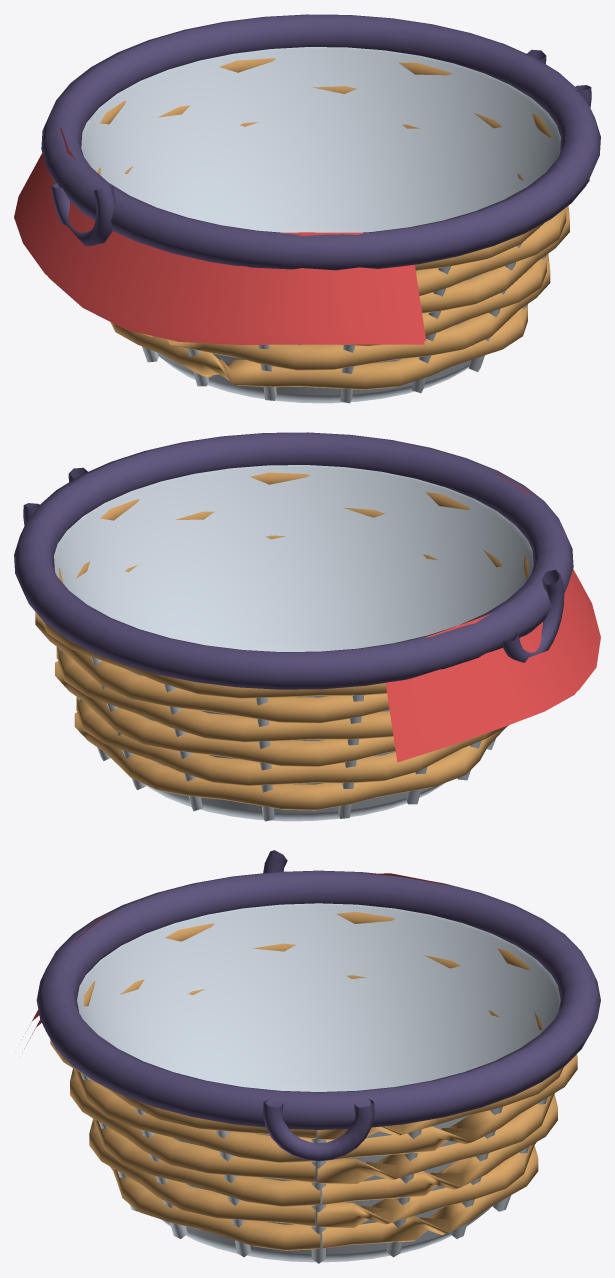
Rendered from HoneyBasket.obj.
3 views of the same model, one above another, from view 1: azimuth 30°, elevation 25°; view 2: azimuth 150°, elevation 25°; view 3: azimuth 270°, elevation 25° (orthographic).
Visible parts, largest first — view 1: Basket, Rim, Cloth, Weave; view 2: Basket, Rim, Weave, Cloth; view 3: Basket, Weave, Rim.
Boxes of the visible parts, left/top/right/bottom form: Basket: left=81, top=47, right=560, bottom=403; Rim: left=41, top=14, right=600, bottom=270; Cloth: left=14, top=127, right=426, bottom=344; Weave: left=97, top=58, right=589, bottom=389; Basket: left=54, top=465, right=533, bottom=821; Rim: left=14, top=432, right=573, bottom=689; Weave: left=35, top=472, right=528, bottom=810; Cloth: left=385, top=472, right=600, bottom=762; Basket: left=77, top=903, right=560, bottom=1263; Weave: left=50, top=912, right=577, bottom=1250; Rim: left=36, top=850, right=600, bottom=1161.
Size of the model in its own units: 4.13 by 1.7 by 4.08.
